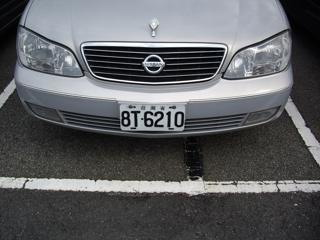plate: (118, 102, 187, 134)
